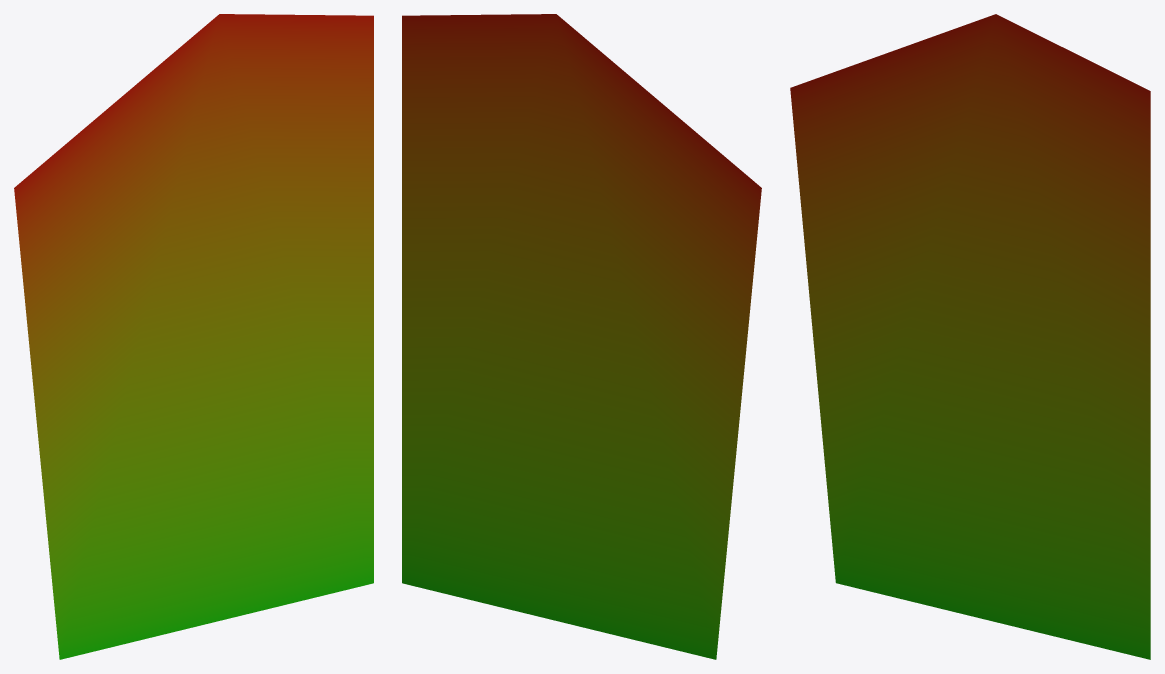
The model's file is Var1_LOD3.fbx.
3 renders of one model, left to right at view 1: azimuth 30°, elevation 25°; view 2: azimuth 150°, elevation 25°; view 3: azimuth 330°, elevation 25°, orthographic.
Visible parts, largest first — view 1: _7df4_Var1_LOD3; view 2: _7df4_Var1_LOD3; view 3: _7df4_Var1_LOD3.
Boxes of the visible parts, bbox=[...] form: _7df4_Var1_LOD3: bbox=[14, 14, 373, 659]; _7df4_Var1_LOD3: bbox=[402, 14, 761, 659]; _7df4_Var1_LOD3: bbox=[790, 14, 1150, 659].
Bounding box in the file's own units: 55.42 × 89.32 × 1.05e-05.
